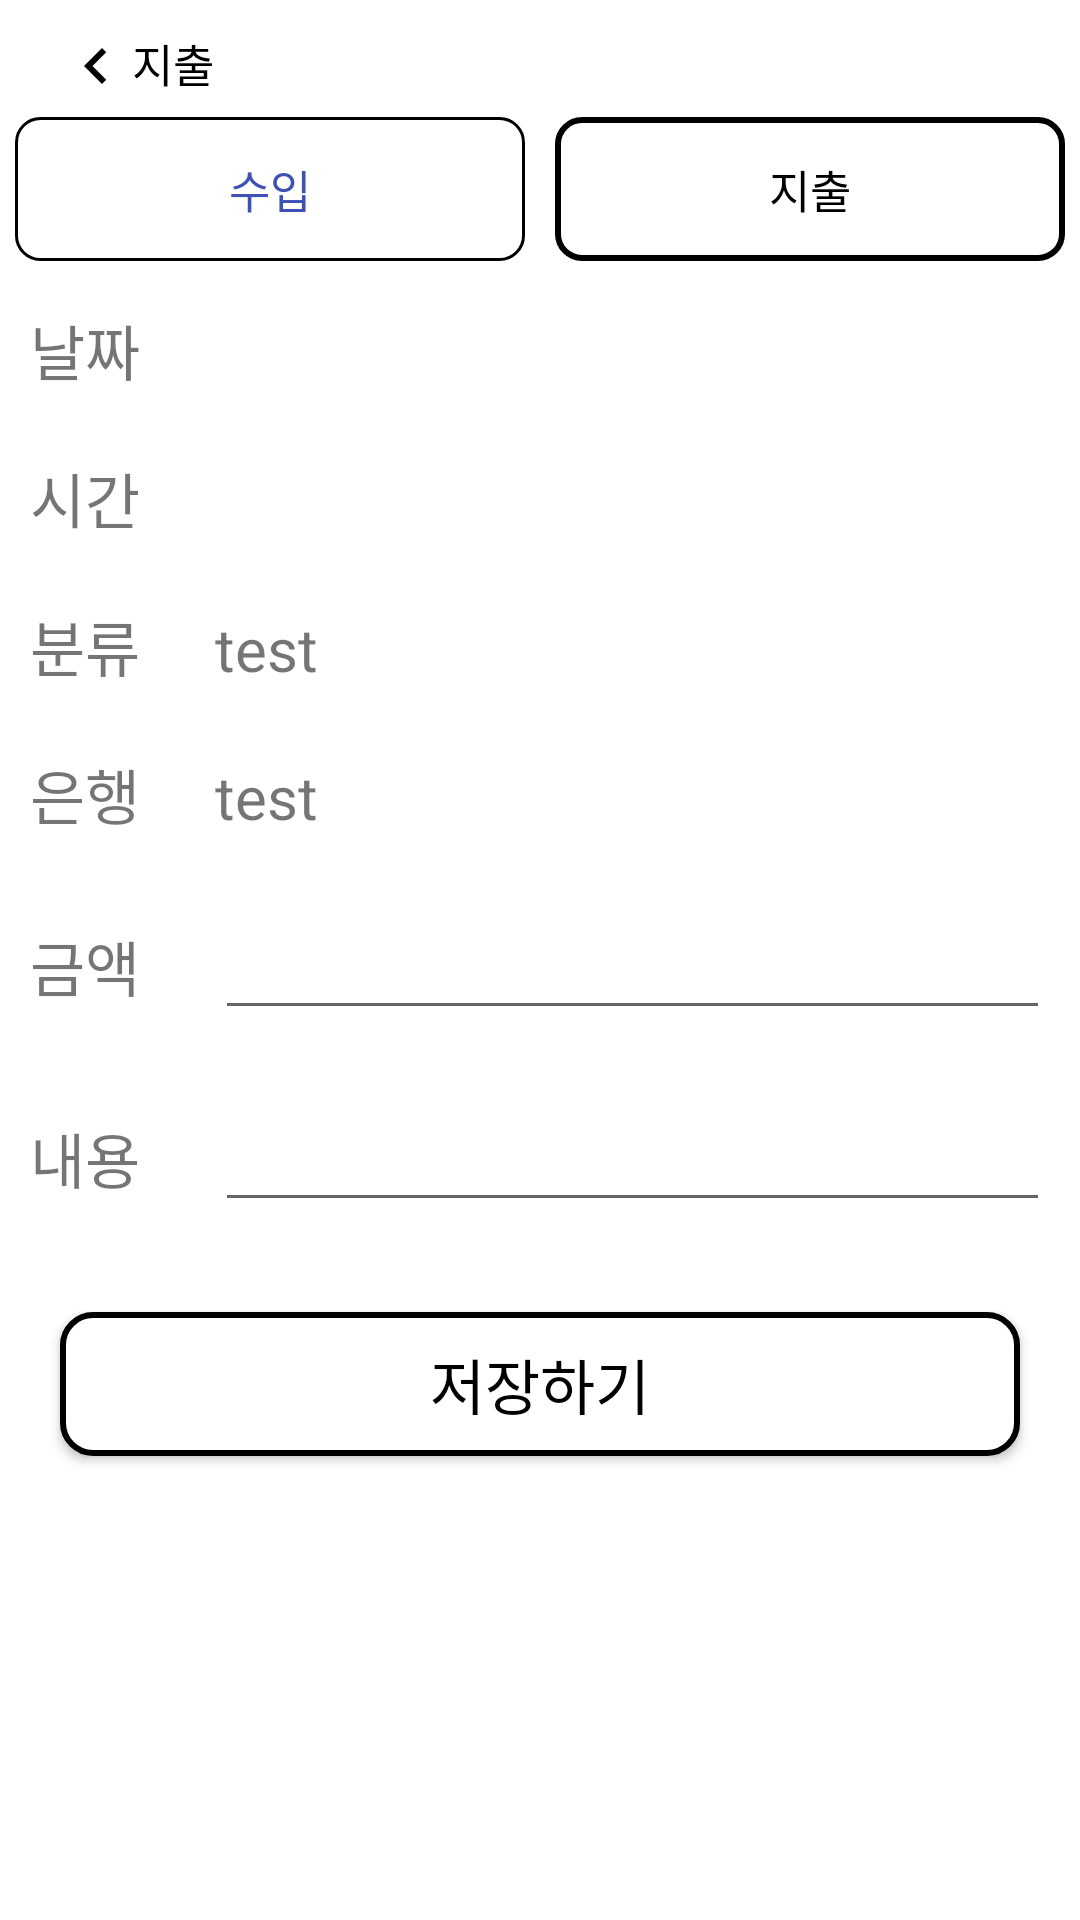

Point at icon controls on the screen. Image size 1080×1920, points as [x,y].
prev month: [95,66]
